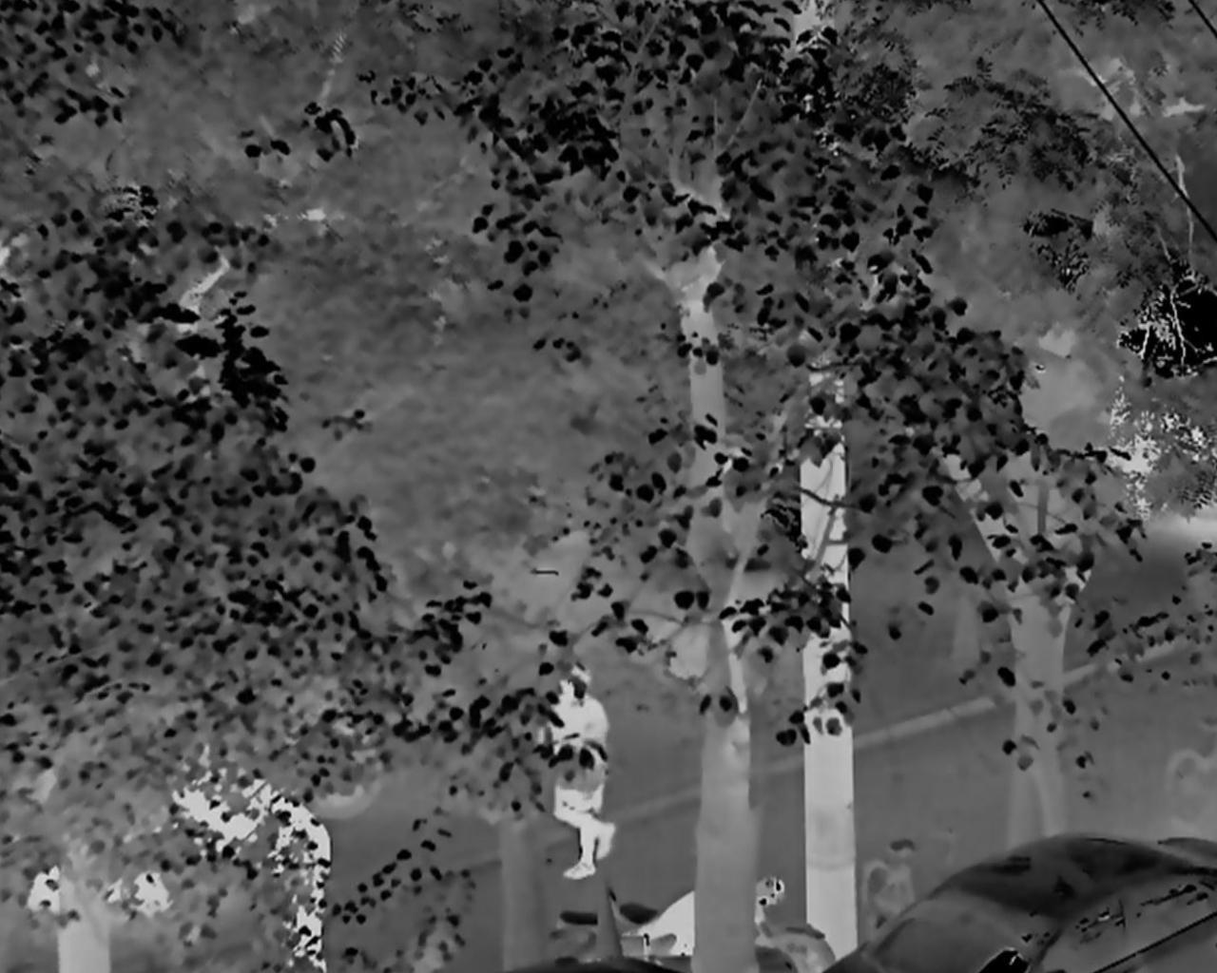person: (537, 662, 615, 880), (254, 793, 336, 973)
